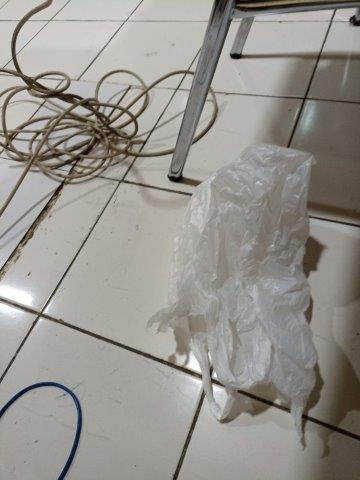plastik: (171, 143, 317, 451)
